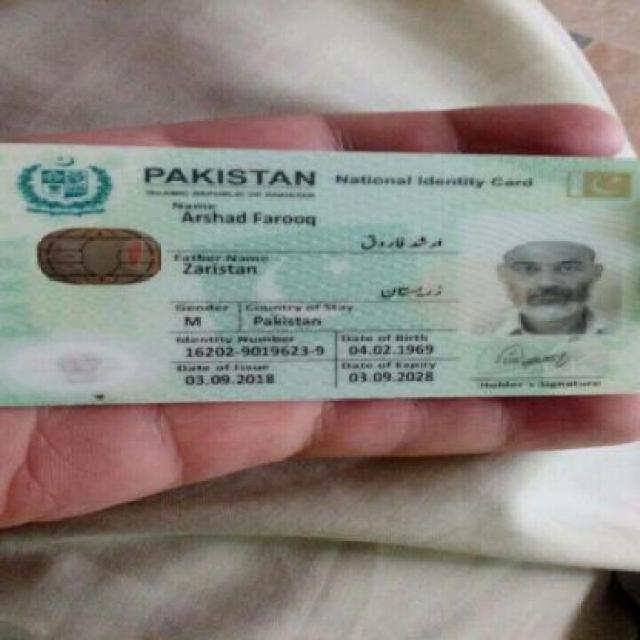Front: (2, 140, 636, 403)
